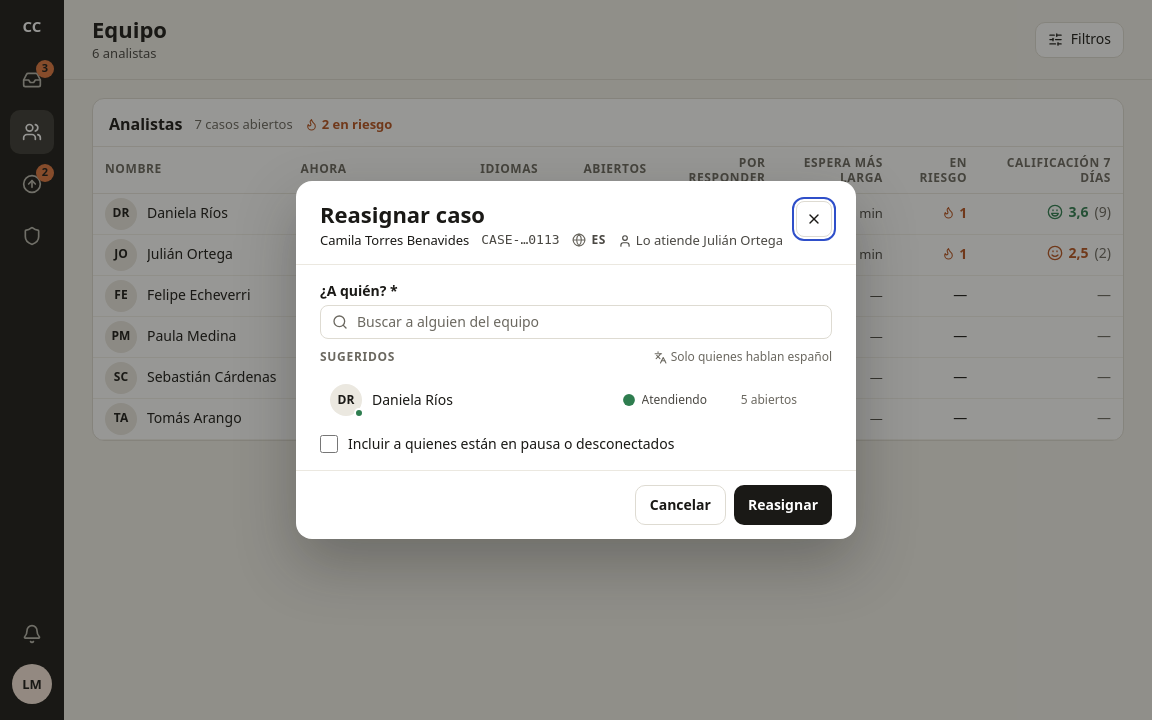
reassign dialog ("Reasignar caso") › reports a reassignment in the strip
This screenshot has width=1152, height=720.
Click the radio button labelled "DR Daniela Ríos Atendiendo 5 abiertos" at [346, 400], box x1=320 y1=376 x2=832 y2=424
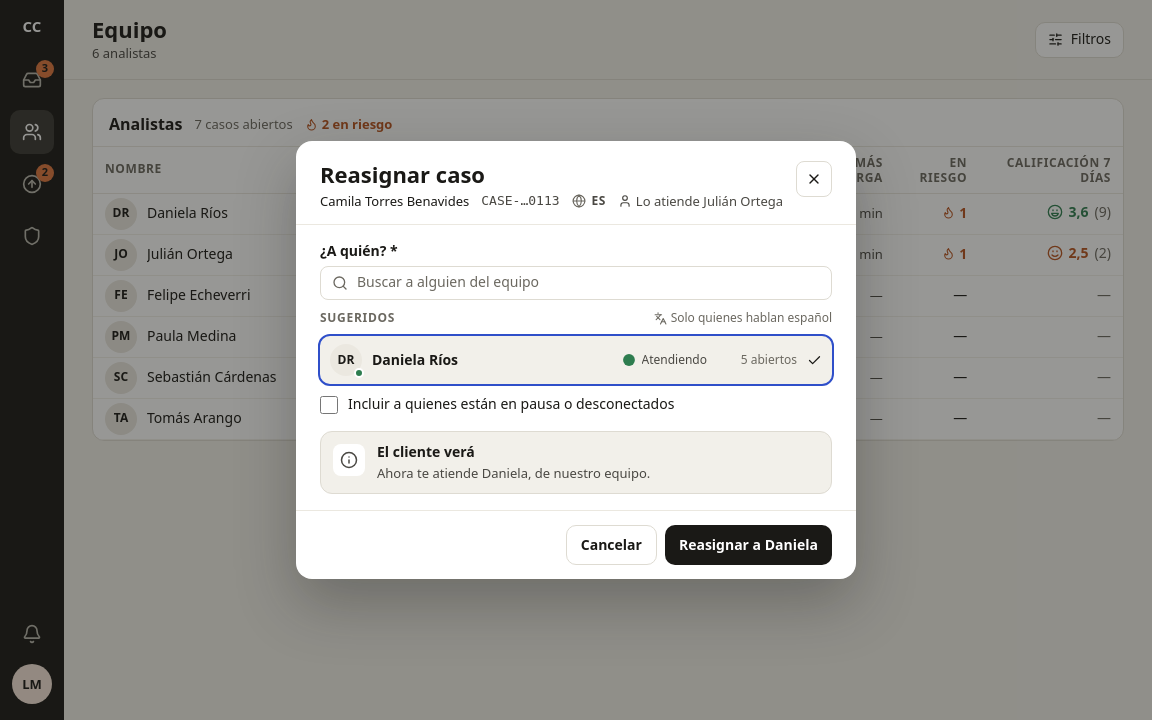
Click the button "Reasignar a Daniela" at [748, 545], box x1=665 y1=525 x2=832 y2=565
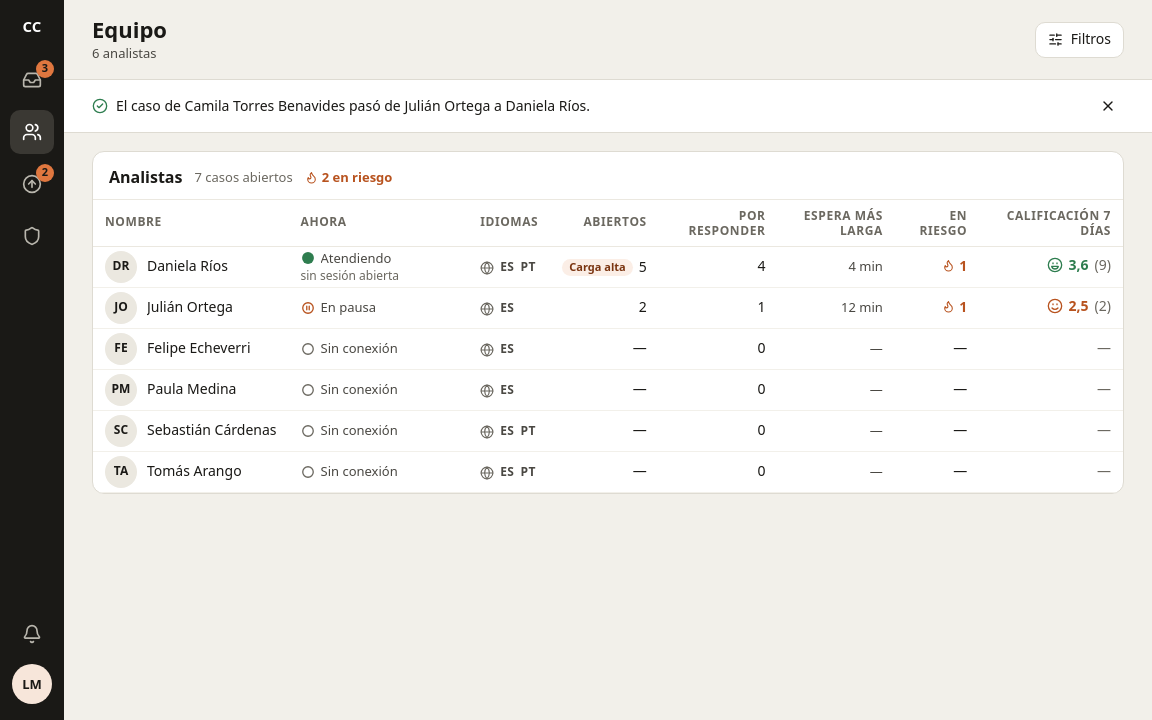
Now the text "El caso de Camila Torres Benavides pasó de Julián Ortega a Daniela Ríos." is shown, box x1=116 y1=96 x2=590 y2=116
